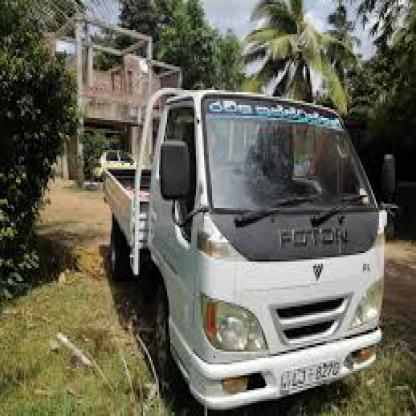lorry: (101, 86, 398, 414)
